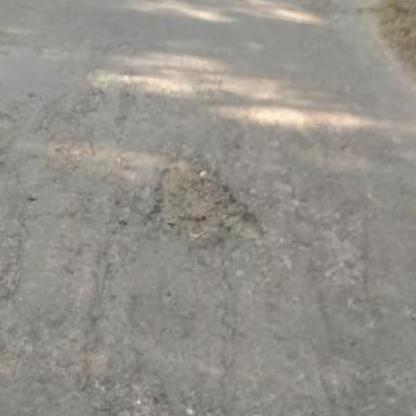pothole: (136, 139, 282, 263)
